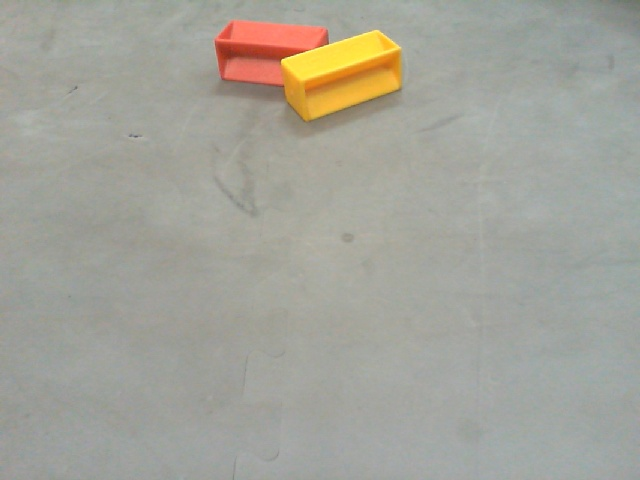RedSample: (212, 16, 330, 94)
YellowSample: (280, 29, 402, 120)
